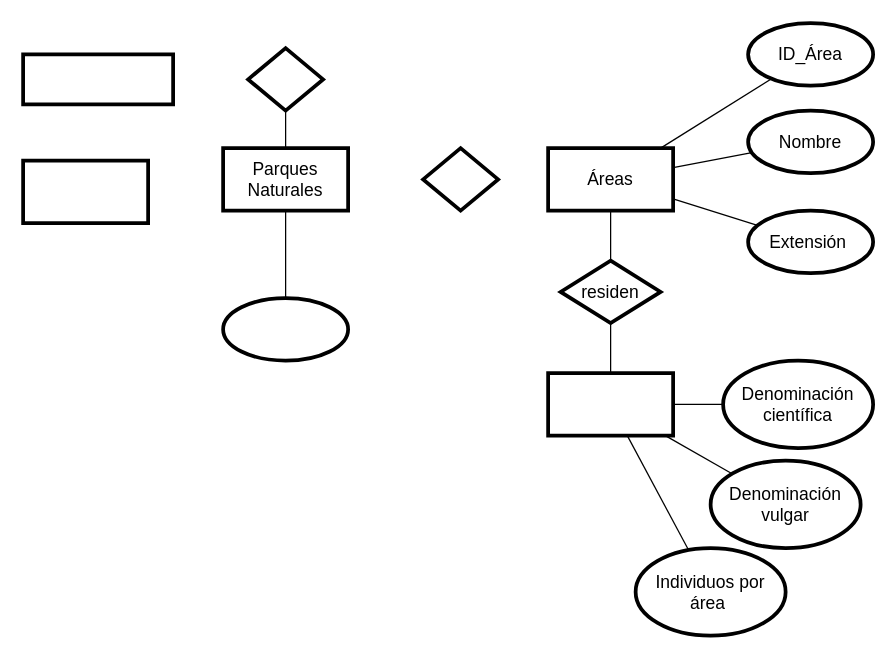
This 896x659 diagram has some shape labels left out. The box of each missing label's shape, as (x1, y1, x2, y2) in pixels:
Comunidad Autonoma: (21, 52, 174, 106)
Especies: (546, 371, 674, 437)
ID_Parque: (221, 296, 349, 362)
Organismo responsable: (21, 158, 149, 224)
